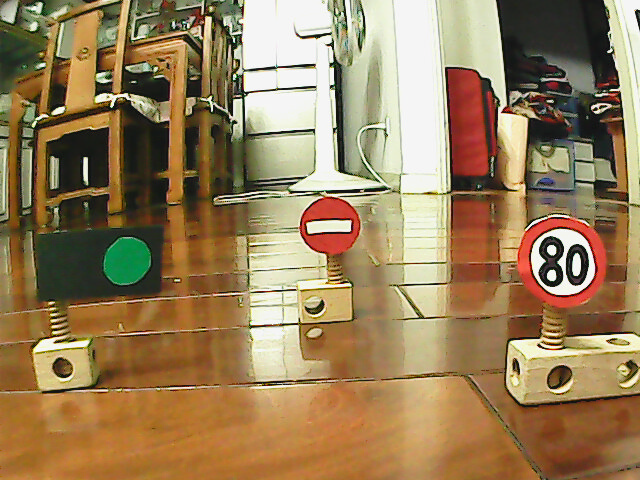Green Traffic Light: (96, 231, 157, 294)
Stop Sign: (297, 193, 364, 259)
